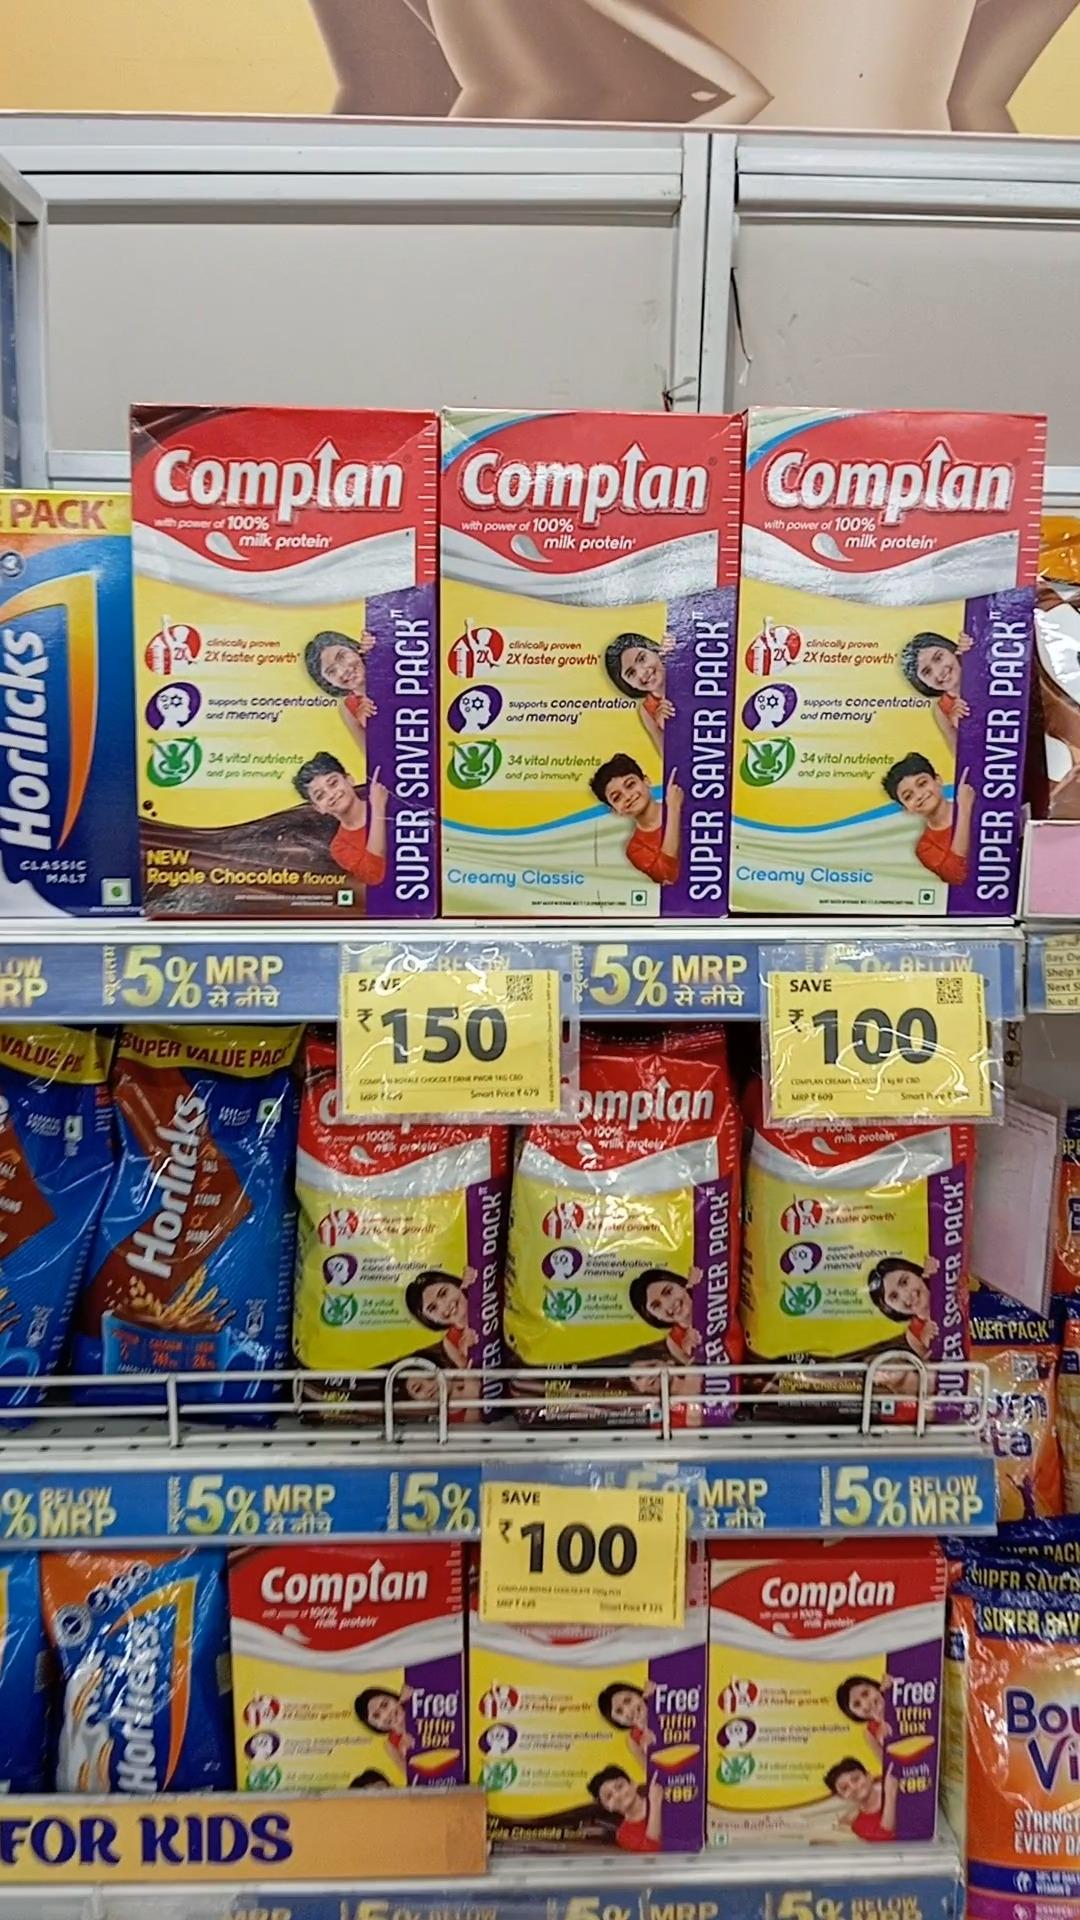COMPLAN_CHOCOLATE_1_KG_PACK: (131, 409, 430, 915)
COMPLAN_CHOCOLATE_500_GMS_PACK: (237, 1547, 462, 1797), (473, 1609, 695, 1854)
COMPLAN_KESAR_BADAM_500_GMS_PACK: (712, 1549, 936, 1845)
COMPLAN_RC_POUCH_700_GMS_12: (749, 1118, 976, 1431), (514, 1118, 740, 1428), (293, 1124, 508, 1428)
HORLICK_CHOCOLATE_750_G_POUCH: (98, 1027, 287, 1428)
HORLICK_CLASSIC_MALT_750_G_POUCH: (45, 1544, 224, 1796)
